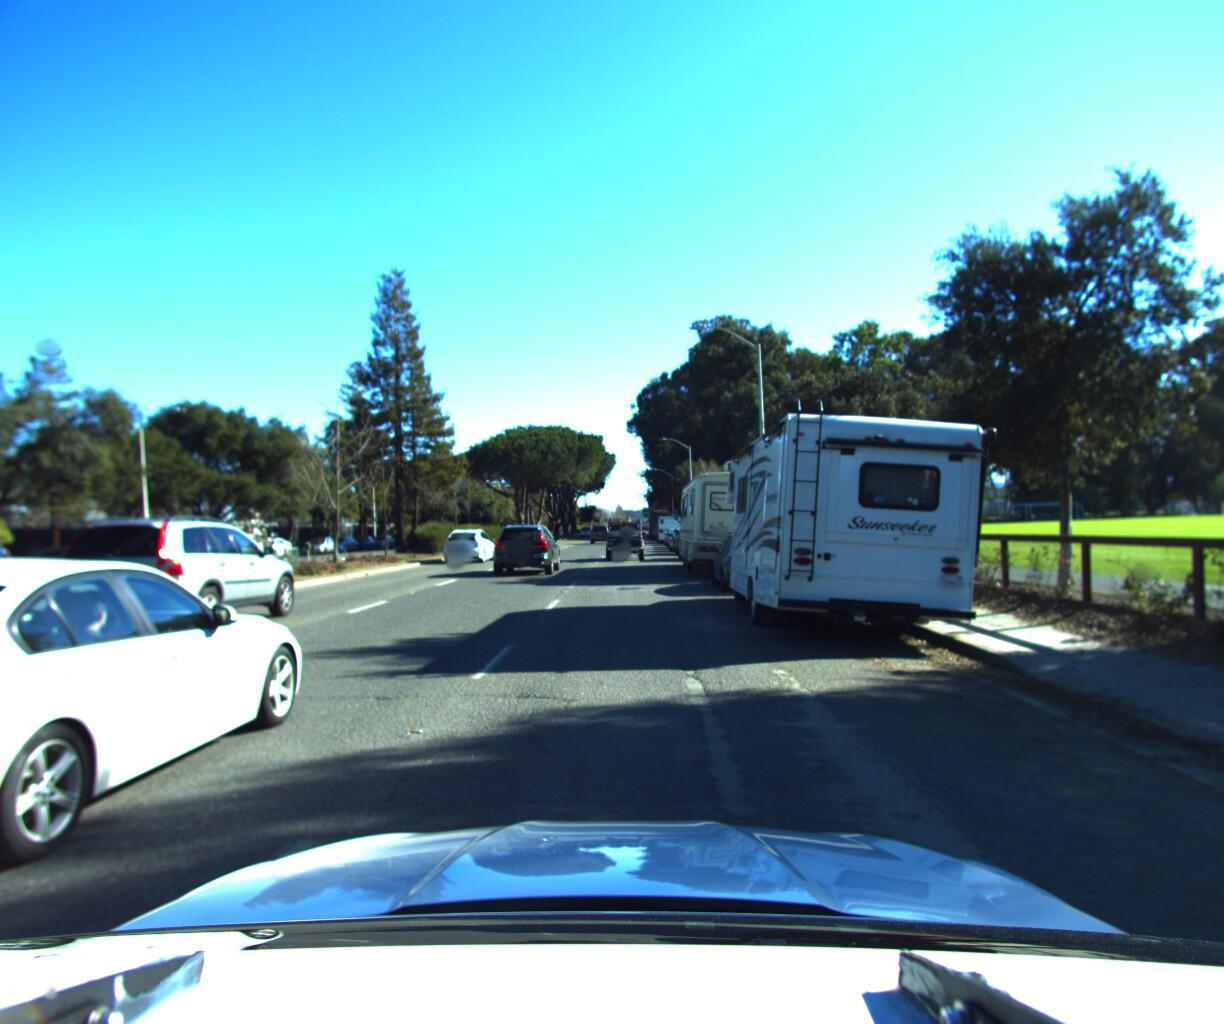car: (41, 497, 309, 639), (709, 524, 807, 591), (4, 541, 114, 582), (491, 520, 562, 575), (436, 522, 500, 563), (598, 505, 649, 555), (245, 534, 295, 560), (302, 538, 339, 555), (589, 519, 613, 541)
other_vehicle: (717, 386, 1014, 648), (671, 457, 792, 577), (654, 505, 692, 541)
